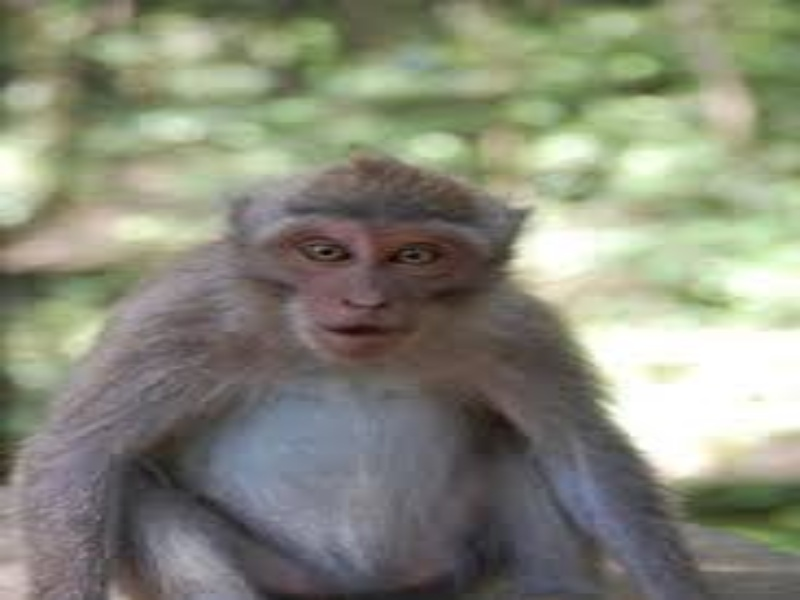monkey: (16, 147, 731, 592)
